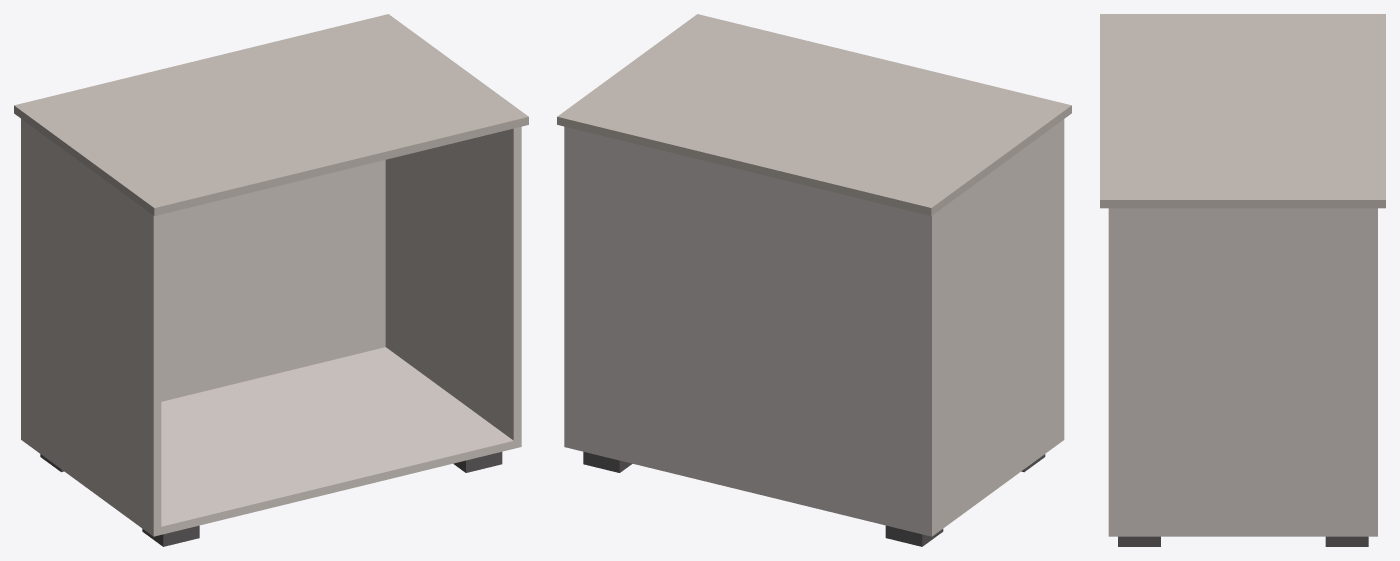
Rendered from Cupboard_13_01.fbx.
3 views of the same model, side by side, from view 1: azimuth 30°, elevation 25°; view 2: azimuth 150°, elevation 25°; view 3: azimuth 270°, elevation 25° (orthographic).
Visible parts, largest first — view 1: Cupboard_13_01; view 2: Cupboard_13_01; view 3: Cupboard_13_01.
Part boxes in pixels (x1,y1,x2,y2): Cupboard_13_01: (14,14,528,546); Cupboard_13_01: (557,14,1071,546); Cupboard_13_01: (1100,14,1385,546).
Size of the model in its own units: 80.51 by 71.81 by 52.29.
